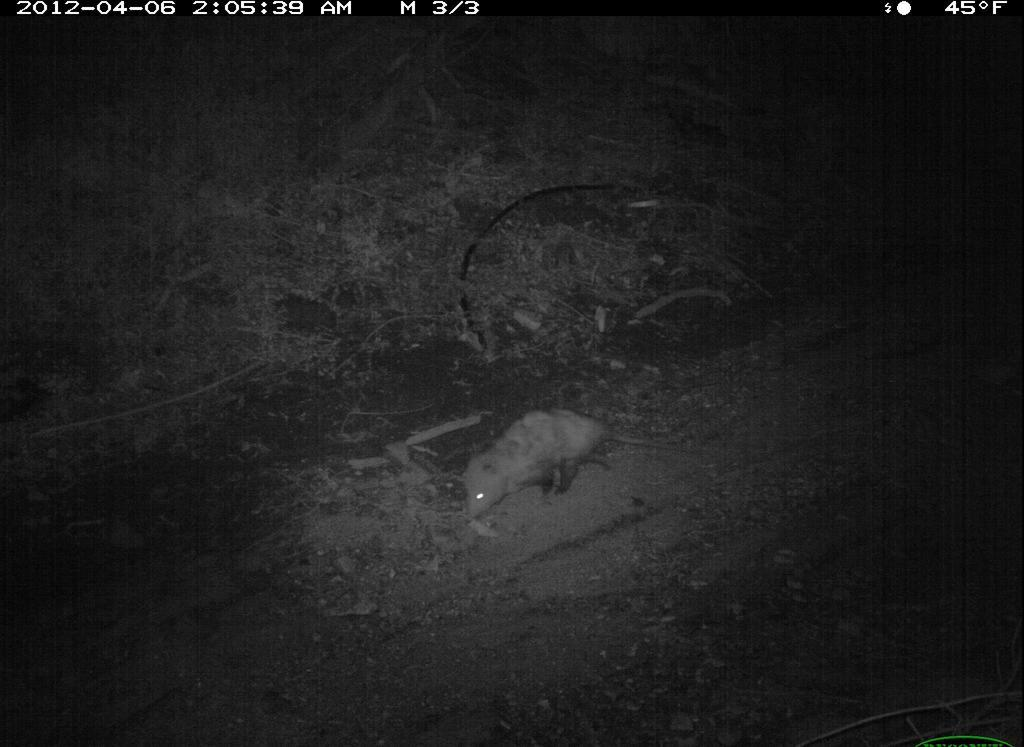opossum: (442, 400, 665, 532)
